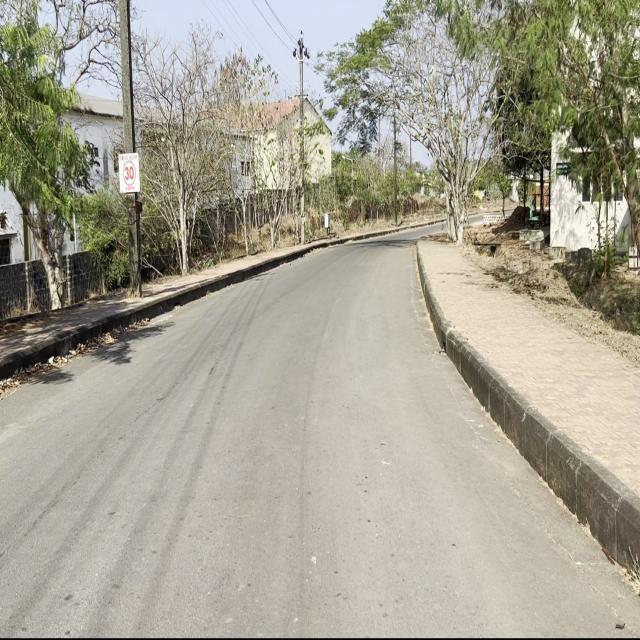Road: (1, 239, 638, 632)
